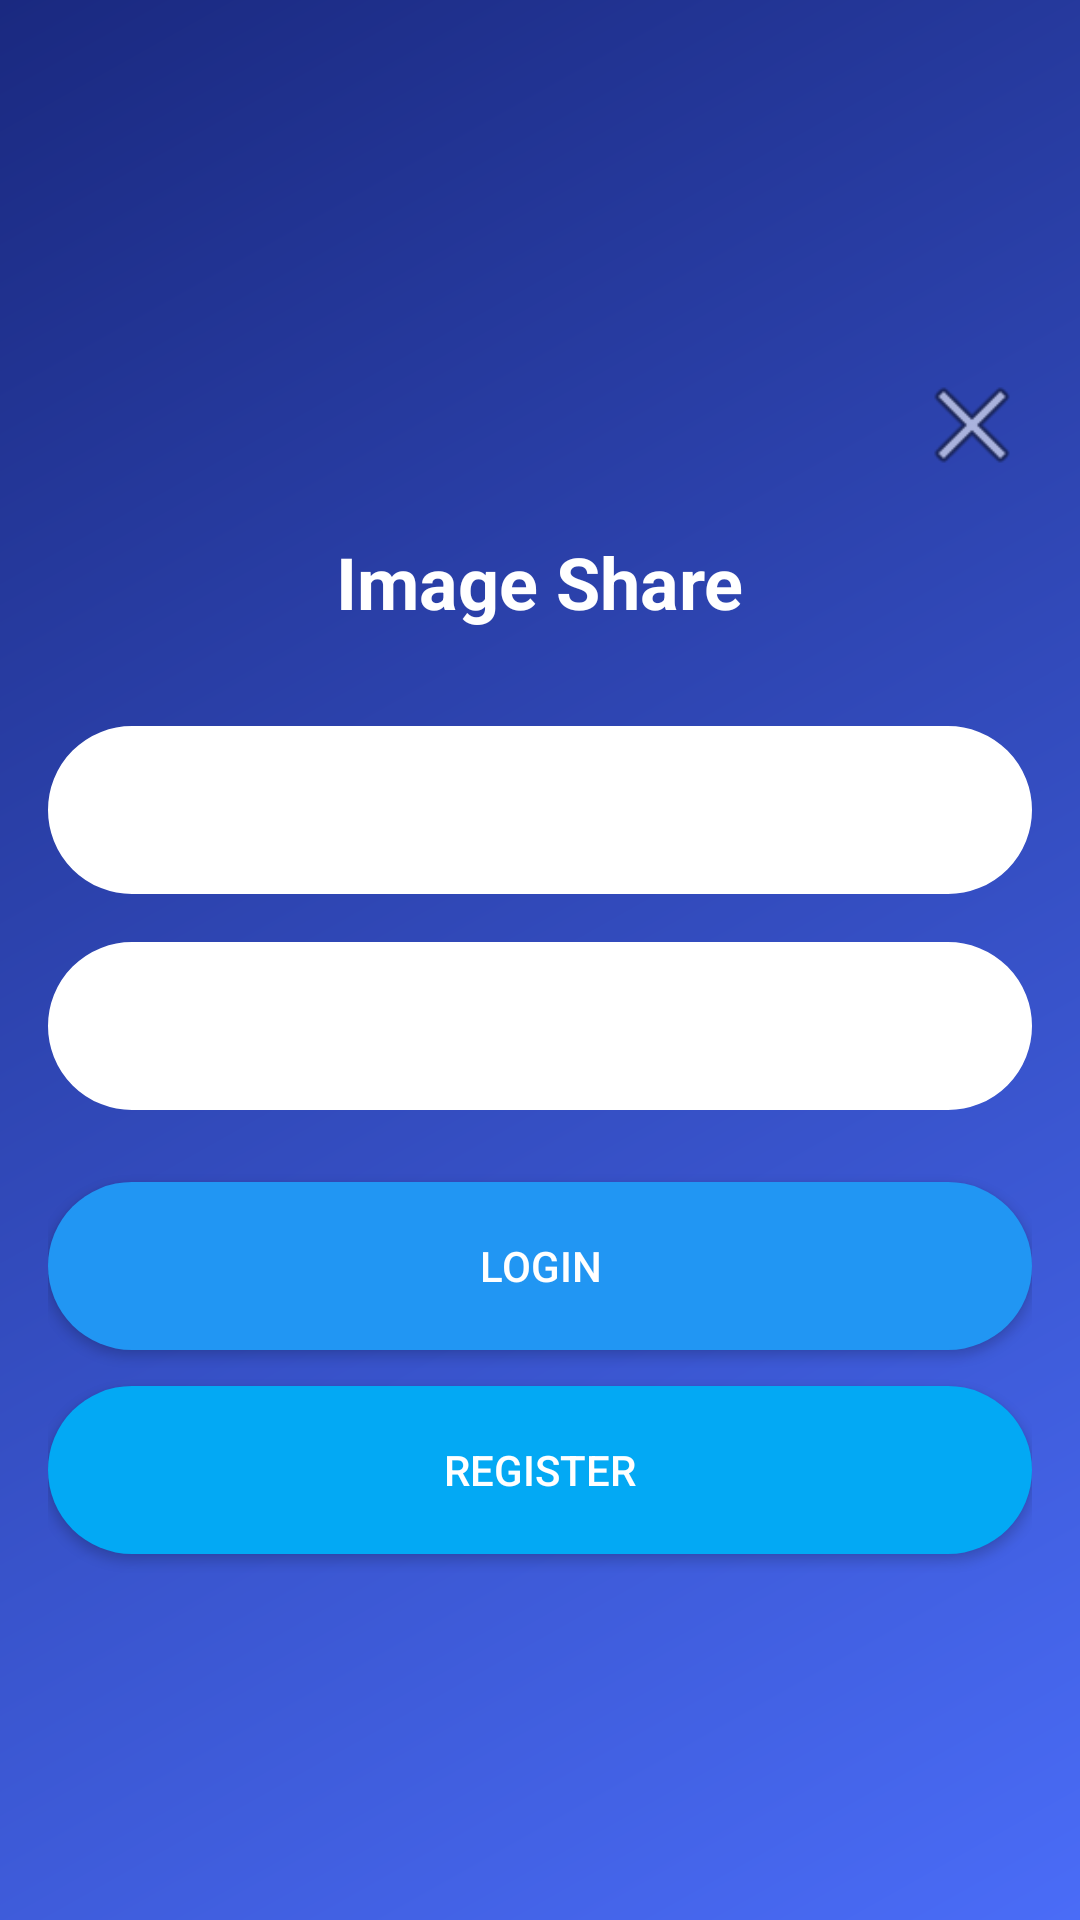

Locate icon controls on the screen. Image size 1080 × 1920, boxes as (x1, y1, x2, y2).
close clear cancel: (935, 388, 1009, 462)
